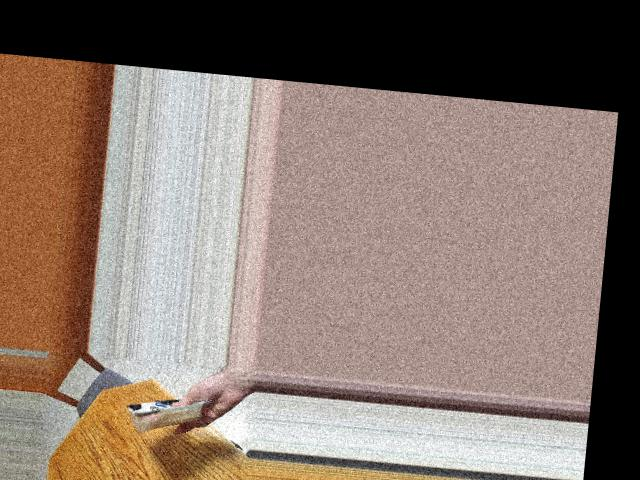cheese: (127, 376, 206, 445)
